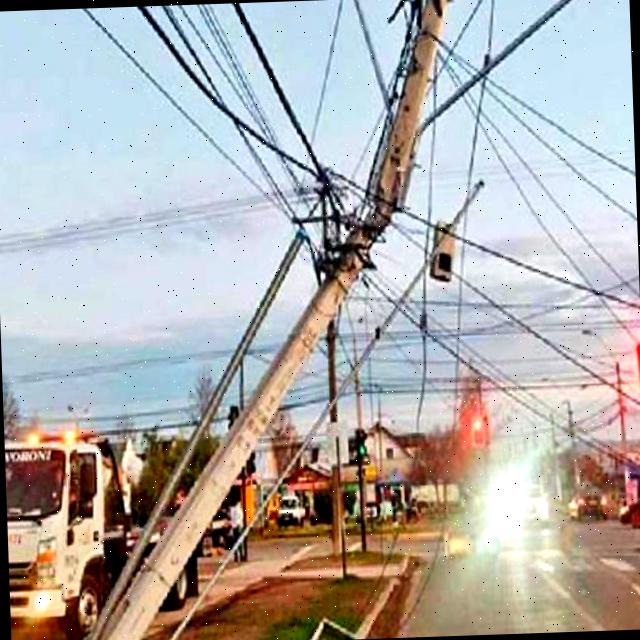Broken Pole: (85, 0, 451, 640)
